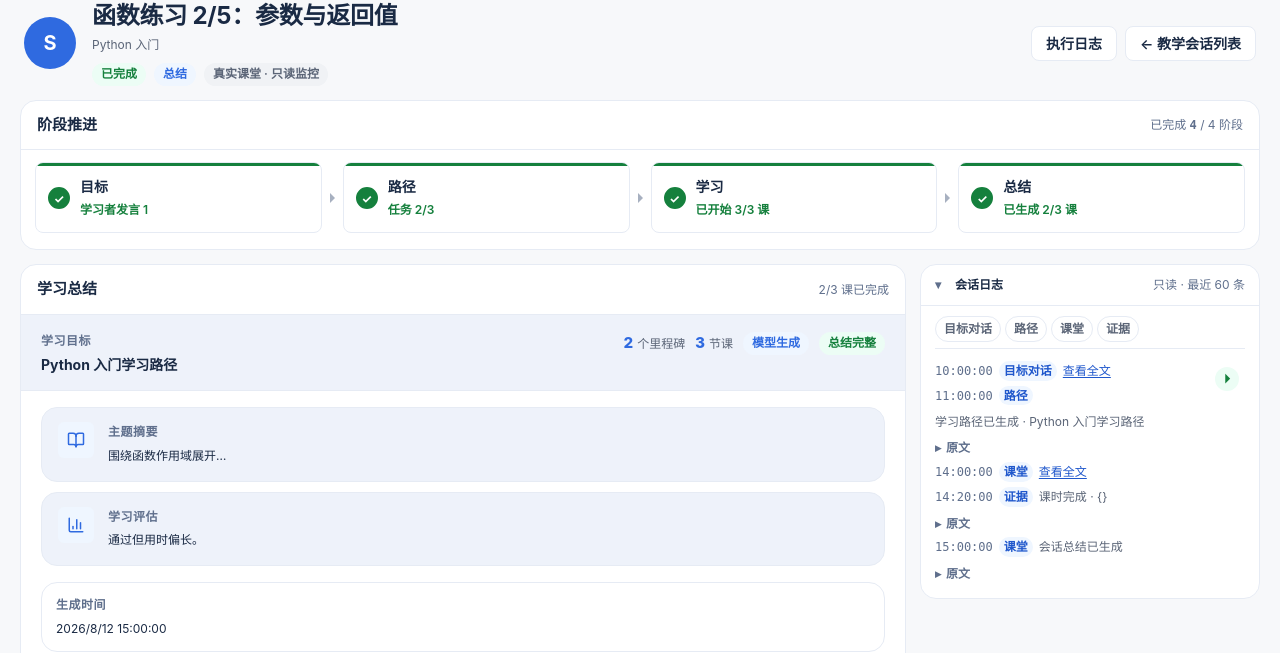
Test: SessionCockpit 双模式 › Learn 就地切换课堂（2026-10-12 走查）：点已完成课 → 按其课堂会话取转录与单课总结，不再只能看一节课
Click the tab with class "cp-stp" showing "✓ 学习 已开始 3/3 课".
click(732, 210)  # box x1=650 y1=162 x2=937 y2=233
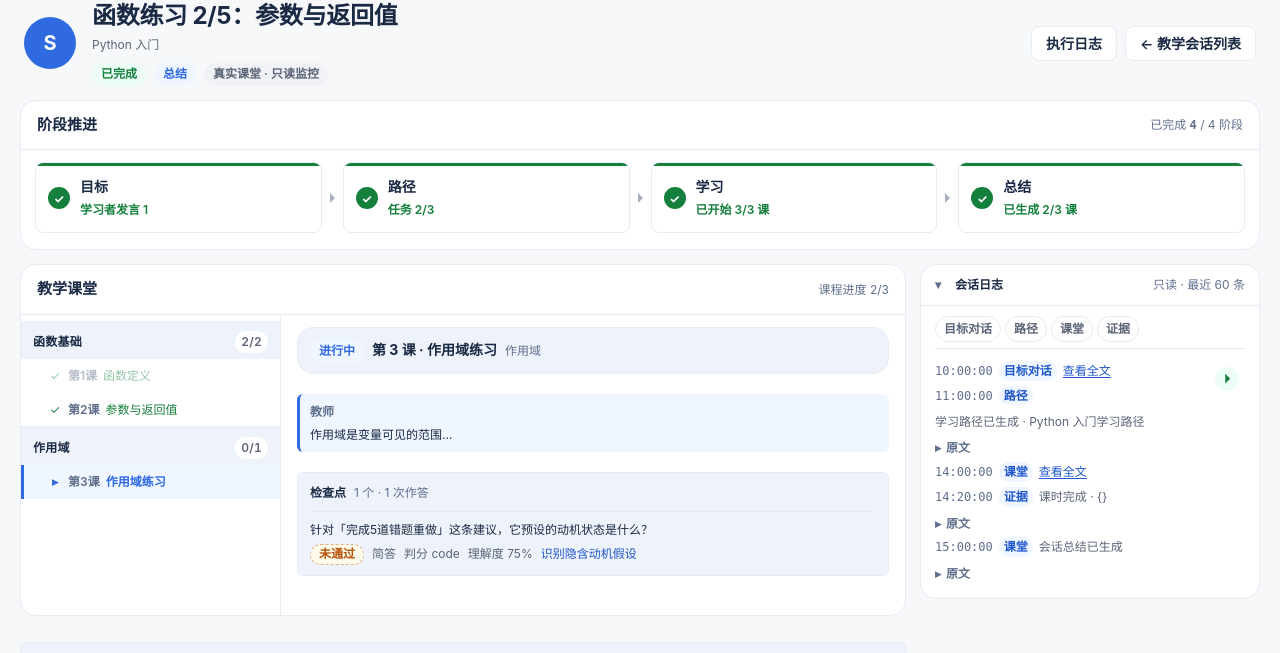
Click the button with class "cp-learn-tree__lesson" showing "✓ 第2课 参数与返回值".
click(150, 410)  # box x1=21 y1=393 x2=280 y2=426
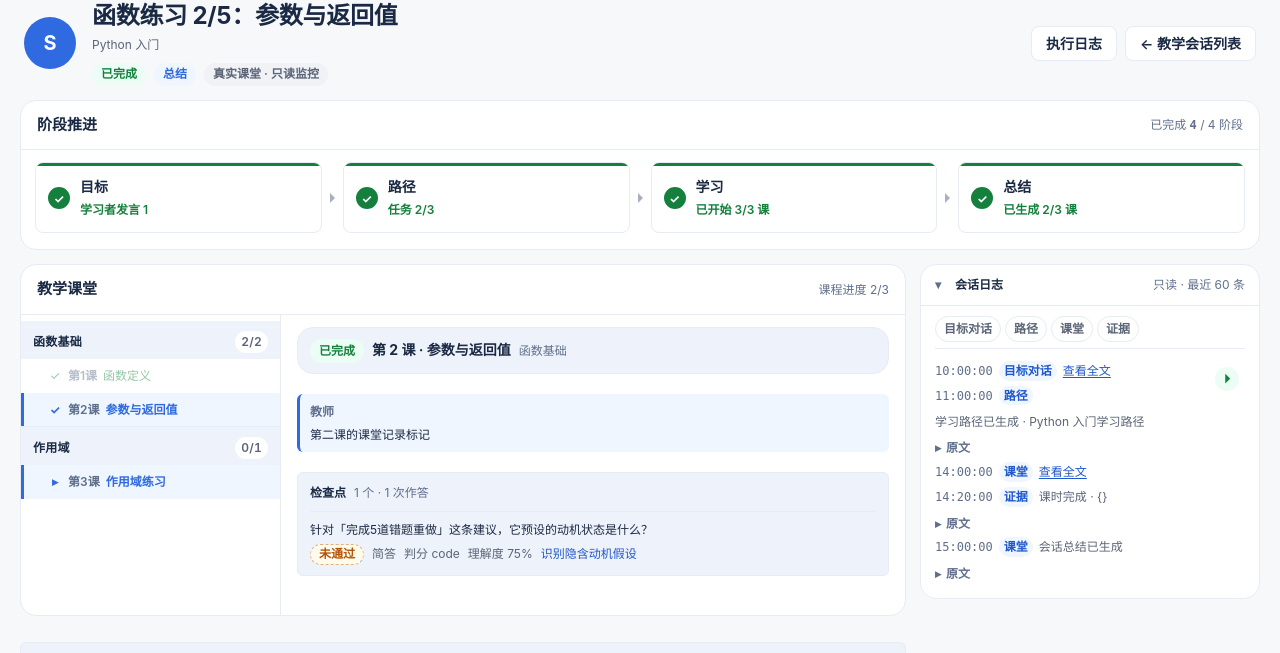
Expected: the text "第二课小结" is not shown
Expected: the element with class "cp-lesson-head" shows "参数与返回值", x1=372 y1=341 x2=511 y2=358
Expected: the text "第二课的课堂记录标记" is shown, x1=310 y1=427 x2=430 y2=442
Click the tab with class "cp-stp" showing "✓ 总结 已生成 2/3 课".
click(1040, 210)  # box x1=958 y1=162 x2=1245 y2=233
(page scrolled)
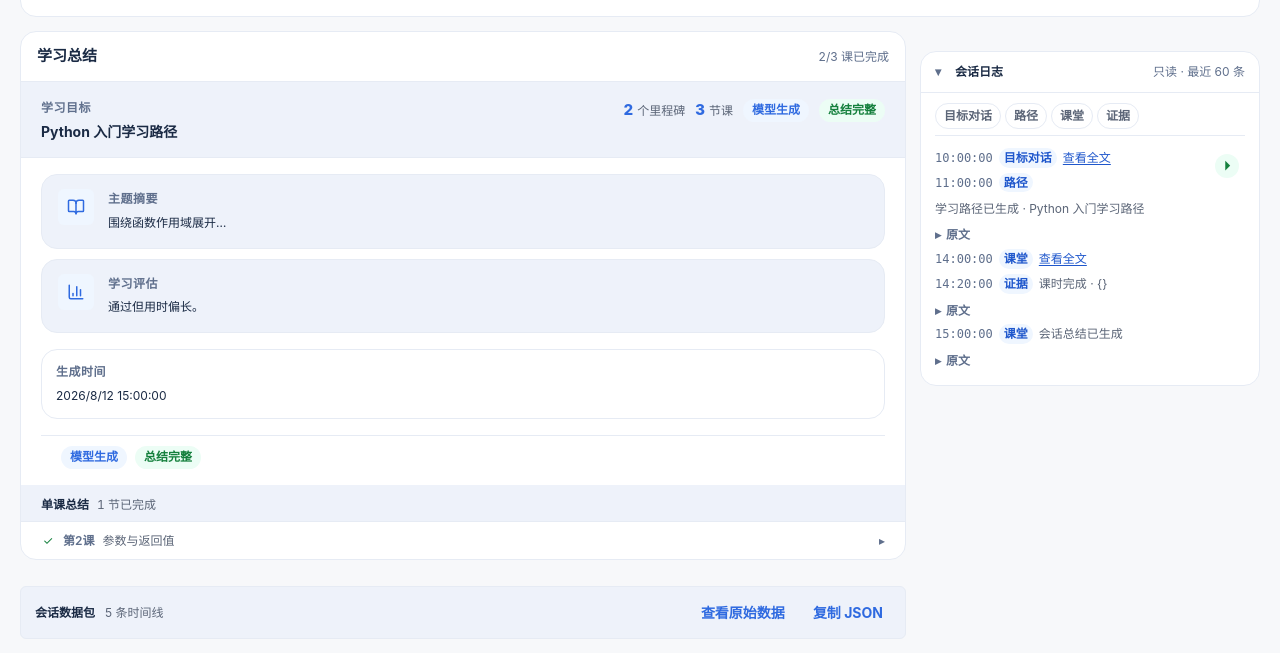
Expected: the button with class "cp-wrapup-sum__row" is shown
Click the button with class "cp-wrapup-sum__row".
click(79, 540)  # box x1=21 y1=522 x2=905 y2=559
(page scrolled)
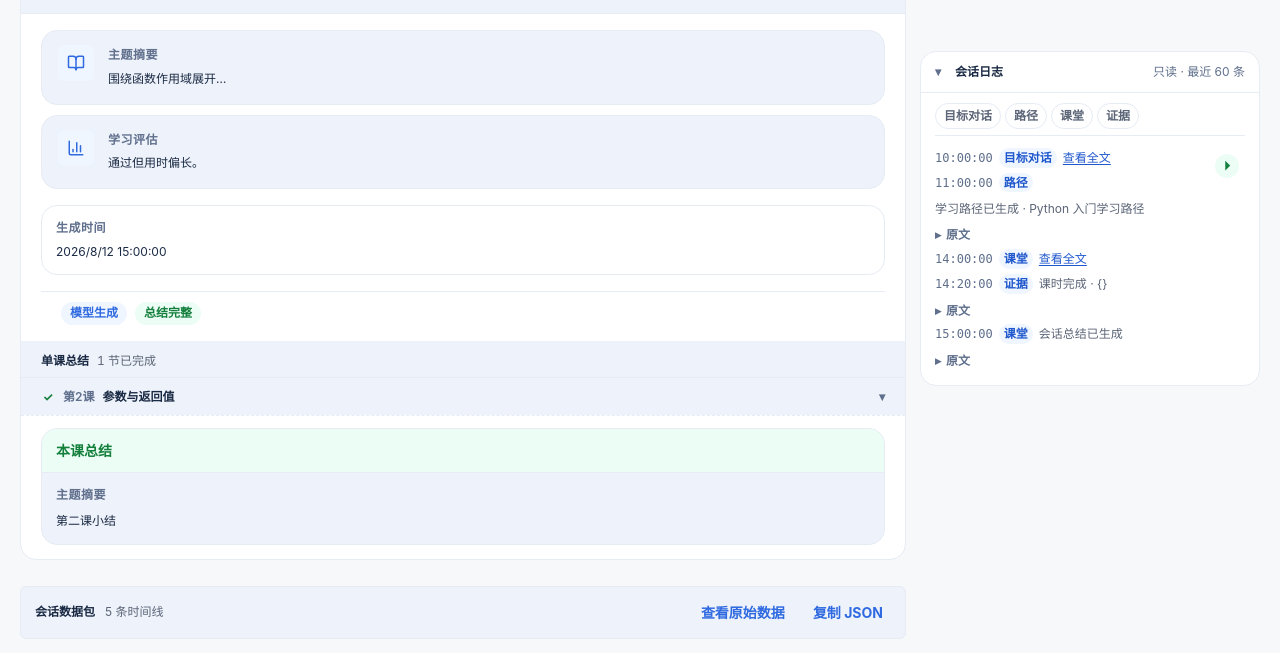
Expected: the element with class "cp-wrapup-sum__body" shows "第二课小结", x1=56 y1=513 x2=116 y2=528
